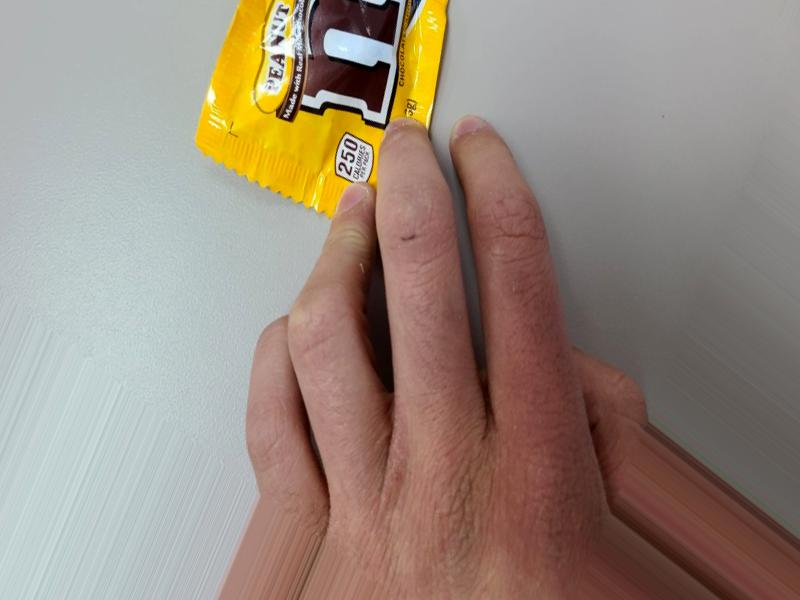m&m: (174, 13, 426, 252)
